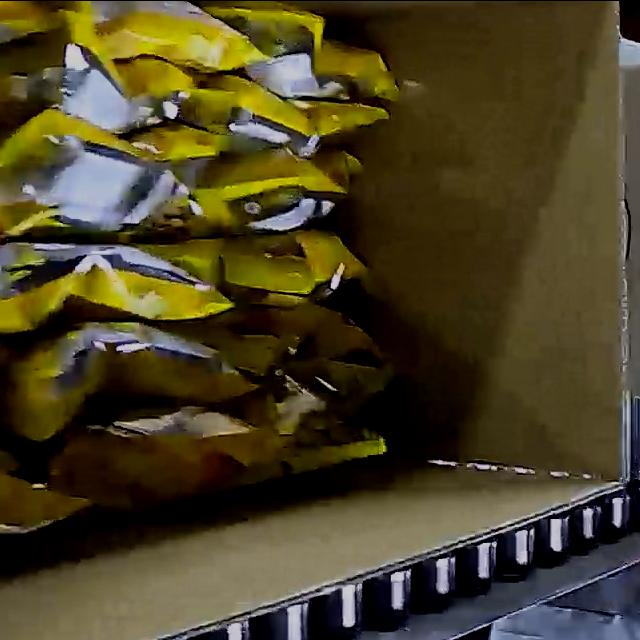salted: (0, 0, 406, 530)
